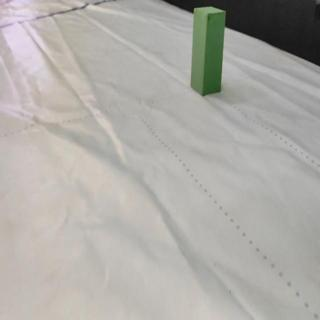greenbox: (191, 5, 226, 97)
